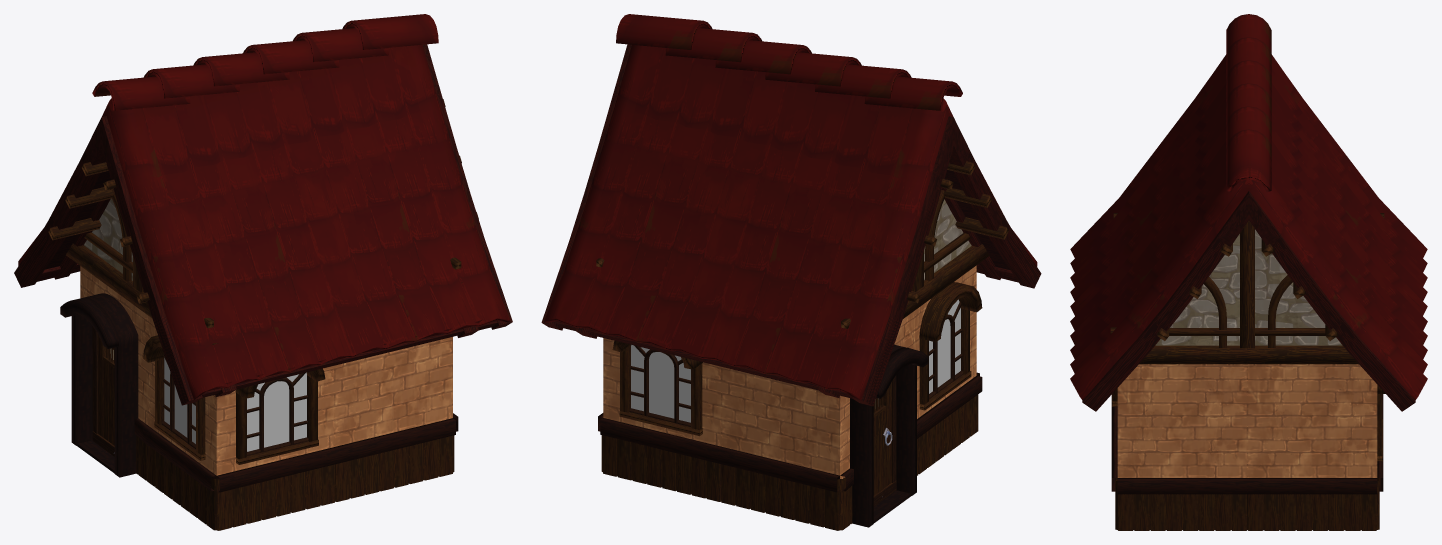
Rendered from Casa_piccola2.obj.
3 renders of one model, left to right at view 1: azimuth 30°, elevation 25°; view 2: azimuth 150°, elevation 25°; view 3: azimuth 270°, elevation 25°, orthographic. The views are drawn at different scales.
Visible parts, largest first — view 1: StaticMeshActor_111, StaticMeshActor_96, StaticMeshActor_103, StaticMeshActor_110, StaticMeshActor_106, StaticMeshActor_102, StaticMeshActor_107, StaticMeshActor_105, StaticMeshActor_104, StaticMeshActor_109; view 2: StaticMeshActor_111, StaticMeshActor_101, StaticMeshActor_98, StaticMeshActor_110, StaticMeshActor_100, StaticMeshActor_107, StaticMeshActor_105, StaticMeshActor_102, StaticMeshActor_109, StaticMeshActor_104; view 3: StaticMeshActor_111, StaticMeshActor_99, StaticMeshActor_97, StaticMeshActor_108, StaticMeshActor_96, StaticMeshActor_100.
Boxes of the visible parts, x1,y1,x2,y2 form: StaticMeshActor_111: (14,14,512,405); StaticMeshActor_96: (334,337,455,501); StaticMeshActor_103: (216,365,337,530); StaticMeshActor_110: (60,293,138,477); StaticMeshActor_106: (235,368,325,464); StaticMeshActor_102: (143,316,217,530); StaticMeshActor_107: (48,162,218,344); StaticMeshActor_105: (143,335,205,460); StaticMeshActor_104: (80,266,148,480); StaticMeshActor_109: (92,326,114,456); StaticMeshActor_111: (541,14,1041,406); StaticMeshActor_101: (718,367,839,530); StaticMeshActor_98: (600,338,721,501); StaticMeshActor_110: (850,344,928,527); StaticMeshActor_100: (612,341,702,436); StaticMeshActor_107: (841,161,1008,328); StaticMeshActor_105: (919,282,982,410); StaticMeshActor_102: (908,265,982,475); StaticMeshActor_109: (873,375,896,506); StaticMeshActor_104: (839,315,908,530); StaticMeshActor_111: (1070,14,1427,411); StaticMeshActor_99: (1247,364,1377,530); StaticMeshActor_97: (1117,364,1247,530); StaticMeshActor_108: (1110,221,1358,364); StaticMeshActor_96: (1111,423,1117,529); StaticMeshActor_100: (1377,385,1385,461).
Bounding box in the file's own units: 570 × 660 × 551.
